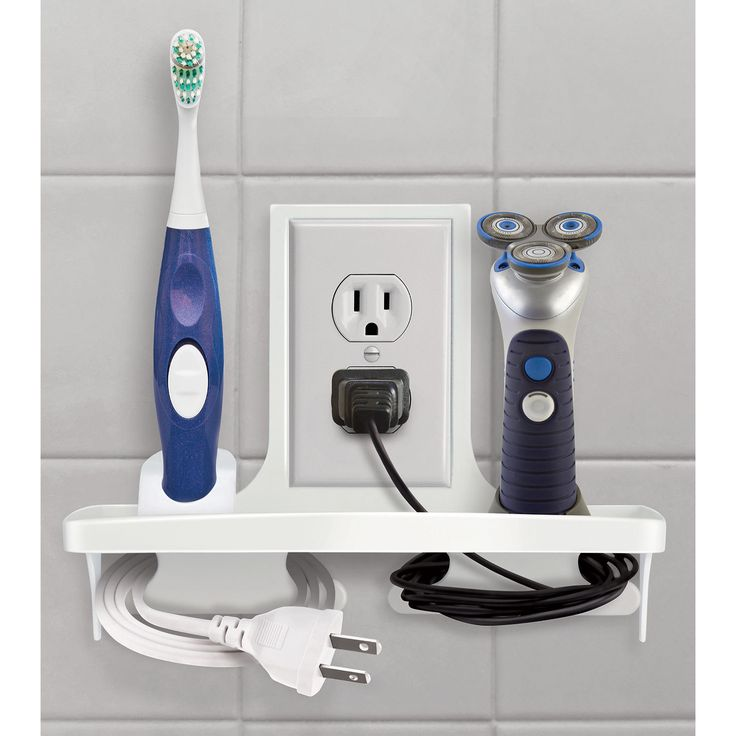outlet: (344, 281, 400, 340)
